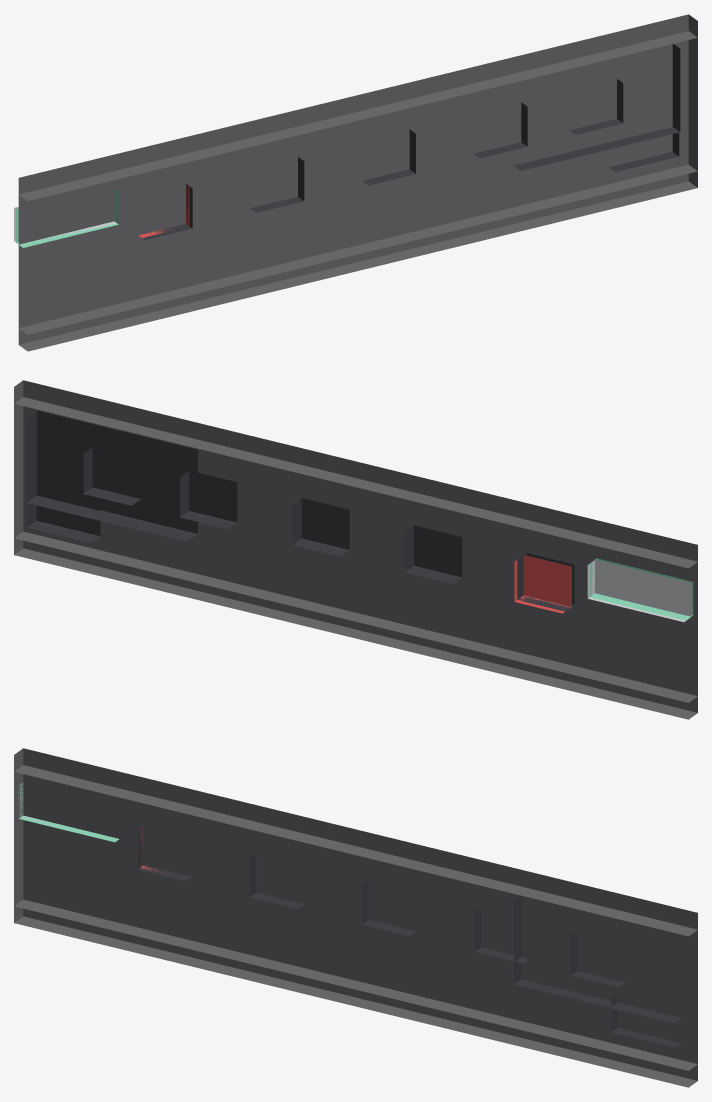
The model's file is front_panel.gltf.
3 renders of one model, top to bottom at view 1: azimuth 30°, elevation 25°; view 2: azimuth 150°, elevation 25°; view 3: azimuth 330°, elevation 25°, orthographic.
Visible parts, largest first — view 1: front_panel; view 2: front_panel; view 3: front_panel.
Boxes of the visible parts, bbox=[...] form: front_panel: bbox=[14, 14, 697, 351]; front_panel: bbox=[14, 380, 697, 719]; front_panel: bbox=[14, 748, 697, 1087].
Bounding box in the file's own units: 0.42 × 0.1 × 0.016.
